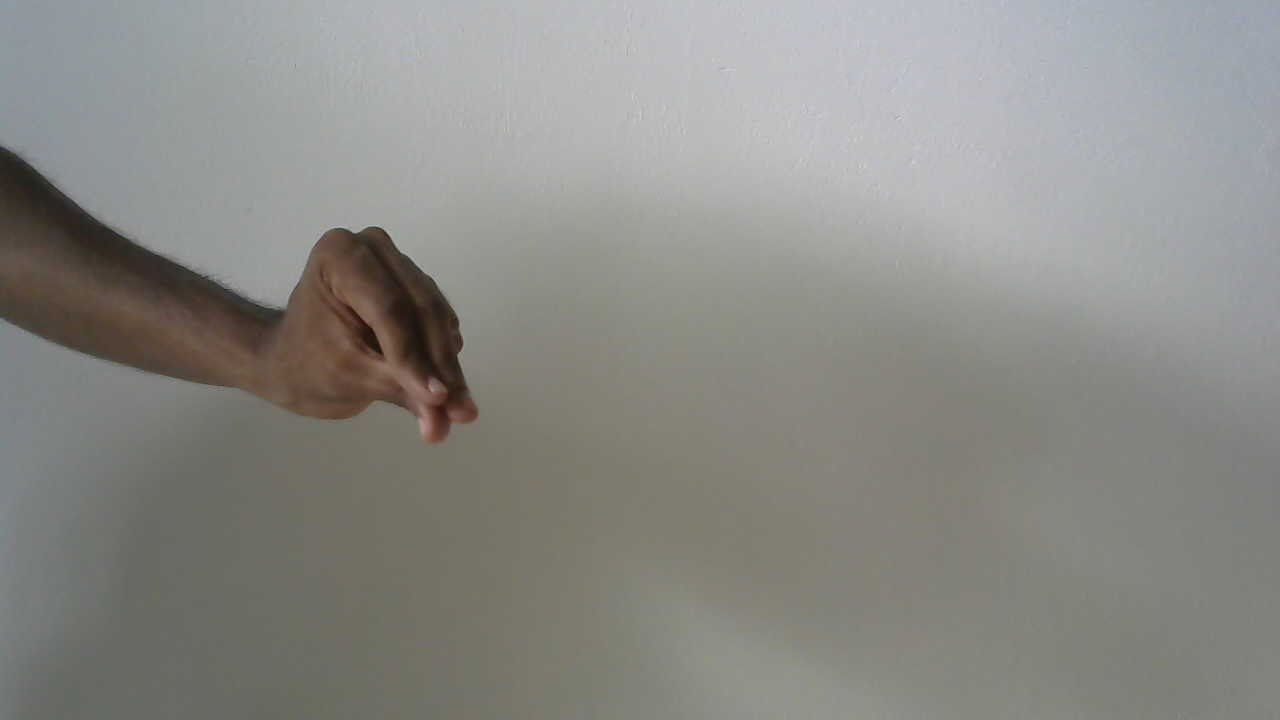no: (252, 204, 492, 465)
